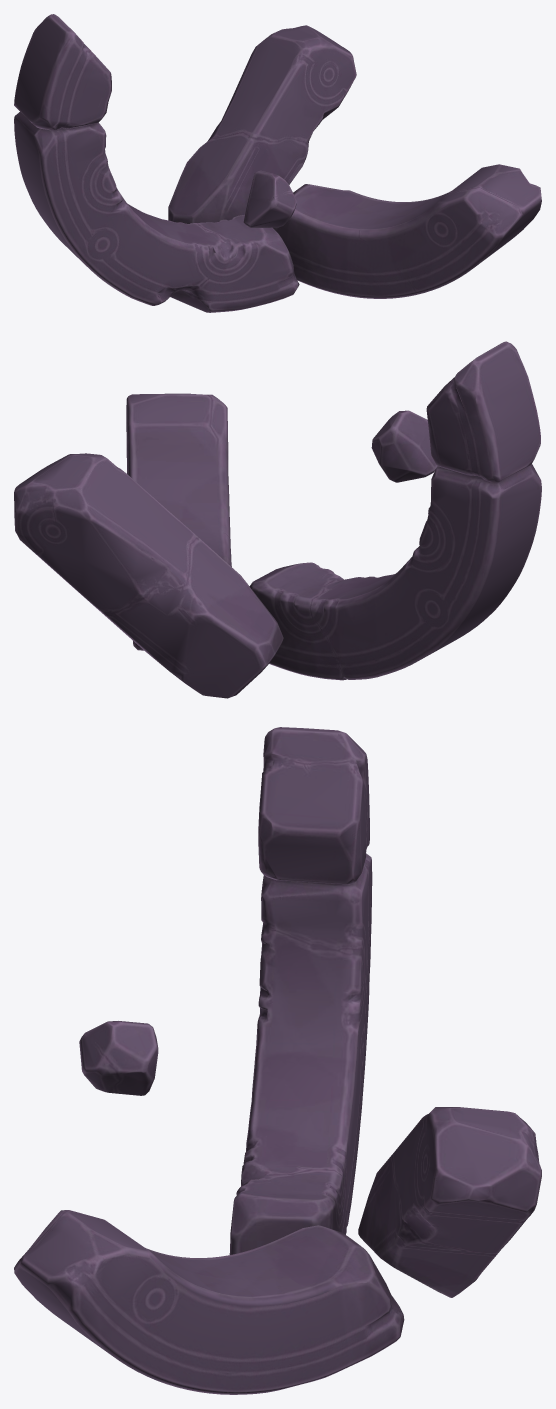
Rendered from caos_stl_rubble_01c_chaos_v36.glb.
3 views of the same model, one above another, from view 1: azimuth 30°, elevation 25°; view 2: azimuth 150°, elevation 25°; view 3: azimuth 270°, elevation 25° (orthographic). The views are drawn at different scales.
Visible parts, largest first — view 1: caos_stl_rubble_01c; view 2: caos_stl_rubble_01c; view 3: caos_stl_rubble_01c.
Boxes of the visible parts, box(x1,y1,x2,y2) form: caos_stl_rubble_01c: box(14, 14, 541, 312); caos_stl_rubble_01c: box(14, 341, 541, 698); caos_stl_rubble_01c: box(14, 727, 541, 1394).
Bounding box in the file's own units: 10.71 × 7.53 × 8.11.
1 material, 1 textured.
